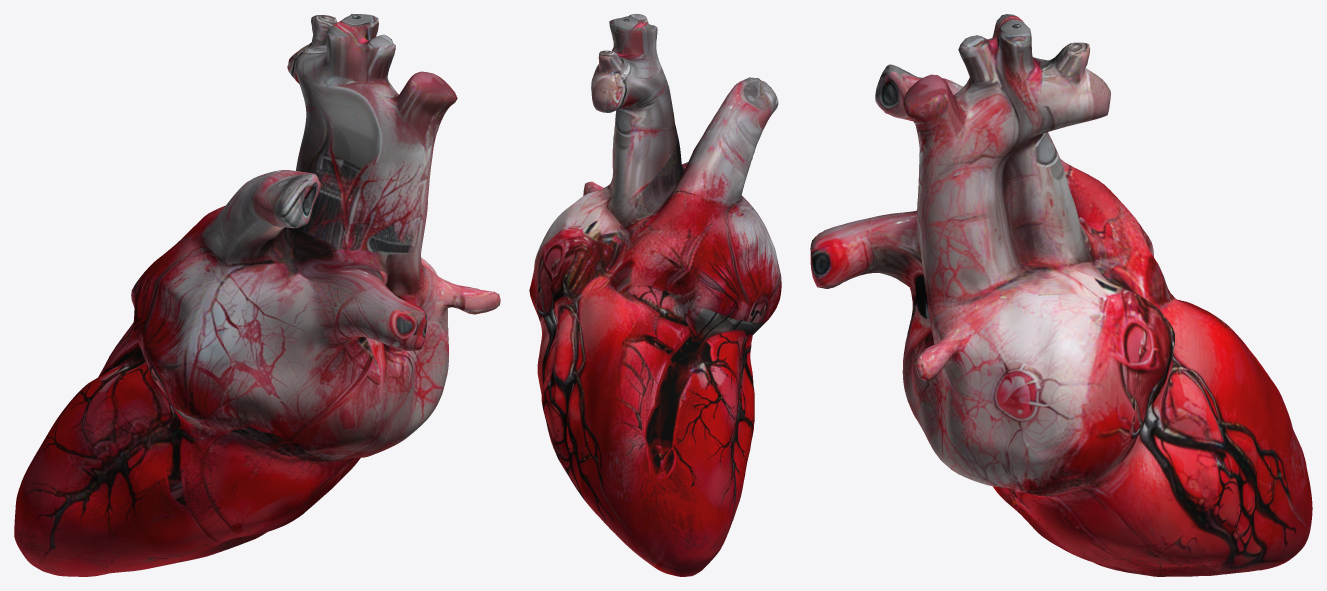
The picture shows the model from 3 angles, left to right: view 1: azimuth 30°, elevation 25°; view 2: azimuth 150°, elevation 25°; view 3: azimuth 270°, elevation 25°; orthographic projection. The views are drawn at different scales.
Parts seen in each view (by area): view 1: Mesh_0; view 2: Mesh_0; view 3: Mesh_0.
Boxes of the visible parts, x1,y1,x2,y2 form: Mesh_0: (14,14,500,576); Mesh_0: (529,14,781,576); Mesh_0: (810,14,1312,576).
Bounding box in the file's own units: 69.39 × 120 × 86.14.
1 material, 1 textured.
